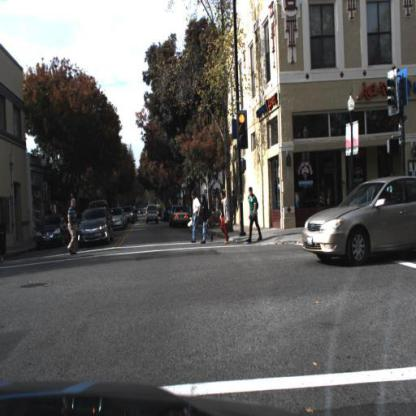car: (303, 173, 416, 263), (78, 205, 114, 246), (38, 216, 70, 248), (172, 203, 190, 228), (114, 209, 126, 230)
pedestrian: (248, 184, 259, 244), (69, 198, 80, 253), (192, 191, 202, 243), (203, 195, 212, 244), (221, 190, 229, 242)
trafficLight: (238, 111, 249, 148)
